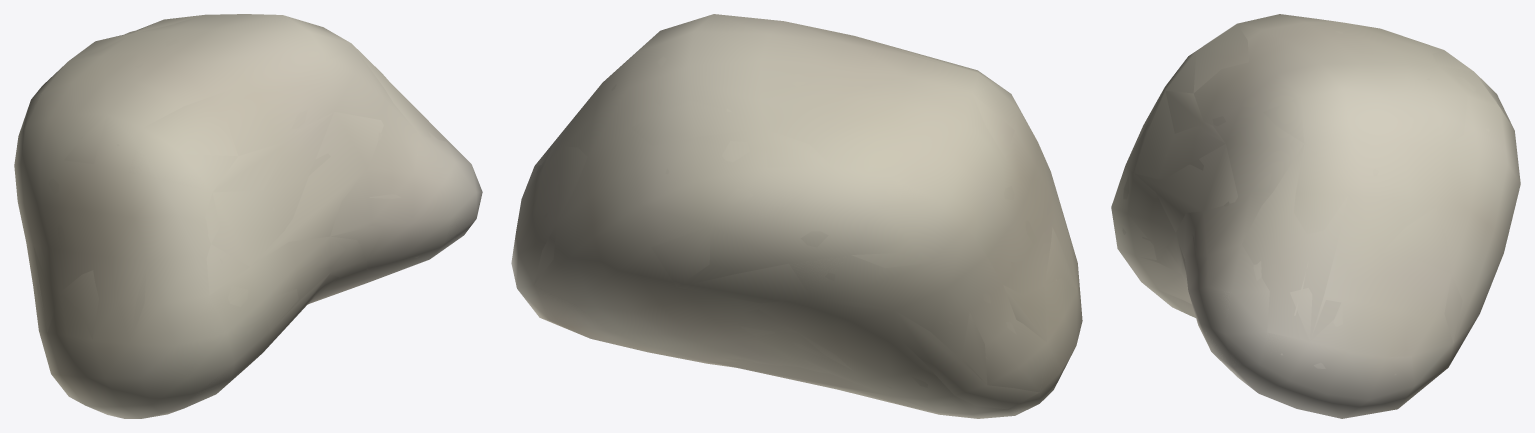
Rendered from L carpale quartum.fbx.
3 renders of one model, left to right at view 1: azimuth 30°, elevation 25°; view 2: azimuth 150°, elevation 25°; view 3: azimuth 270°, elevation 25°, orthographic. The views are drawn at different scales.
Parts seen in each view (by area): view 1: L carpale quartum, L carpale quartum low, L carpale quartum high; view 2: L carpale quartum, L carpale quartum low, L carpale quartum high; view 3: L carpale quartum, L carpale quartum low, L carpale quartum high.
Part boxes in pixels (bbox=[...]): L carpale quartum: bbox=[14, 14, 482, 418]; L carpale quartum low: bbox=[27, 15, 481, 394]; L carpale quartum high: bbox=[28, 24, 454, 411]; L carpale quartum: bbox=[511, 14, 1082, 418]; L carpale quartum low: bbox=[522, 15, 1076, 414]; L carpale quartum high: bbox=[515, 56, 1057, 407]; L carpale quartum: bbox=[1111, 14, 1520, 418]; L carpale quartum low: bbox=[1112, 24, 1519, 417]; L carpale quartum high: bbox=[1122, 31, 1497, 375].
Size of the model in its own units: 0.4332 by 0.2971 by 0.3429.
Materials: 1 (1 with a texture image).
